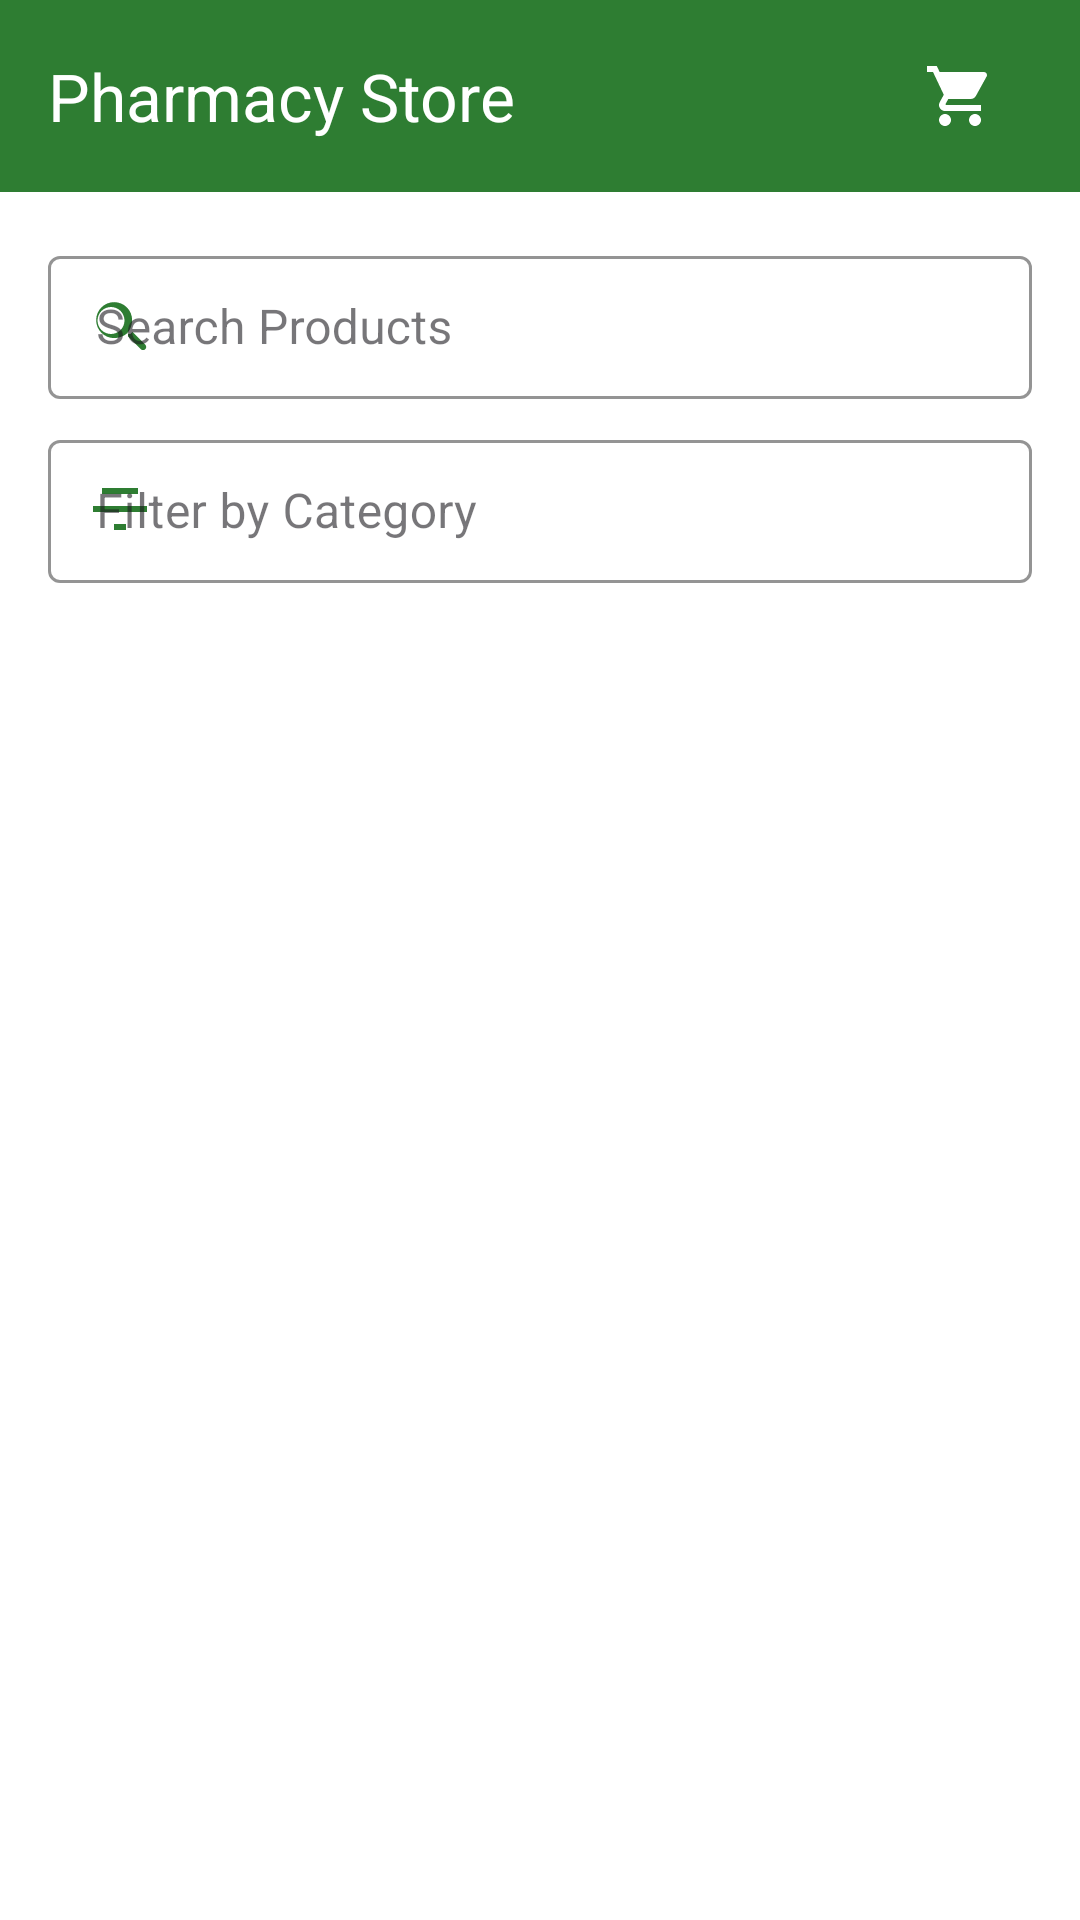

Icon click points for this 1080px×1920px phone screenshot, format (x,y):
Shopping Cart: (957,96)
